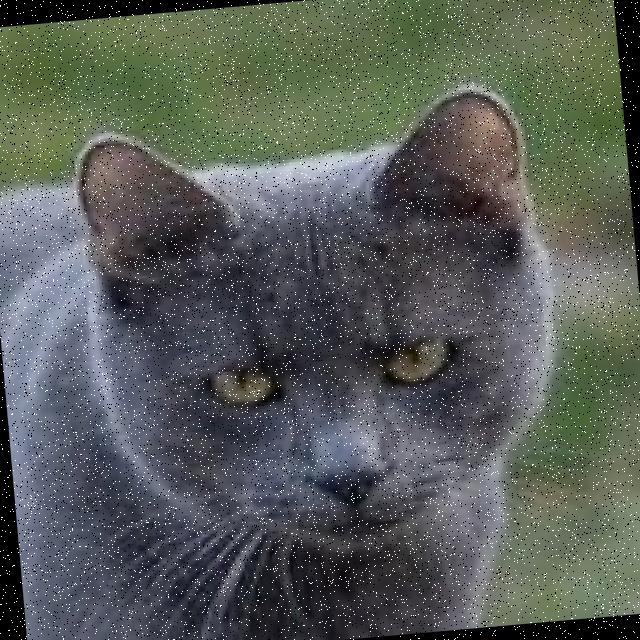Angry: (116, 245, 518, 562)
